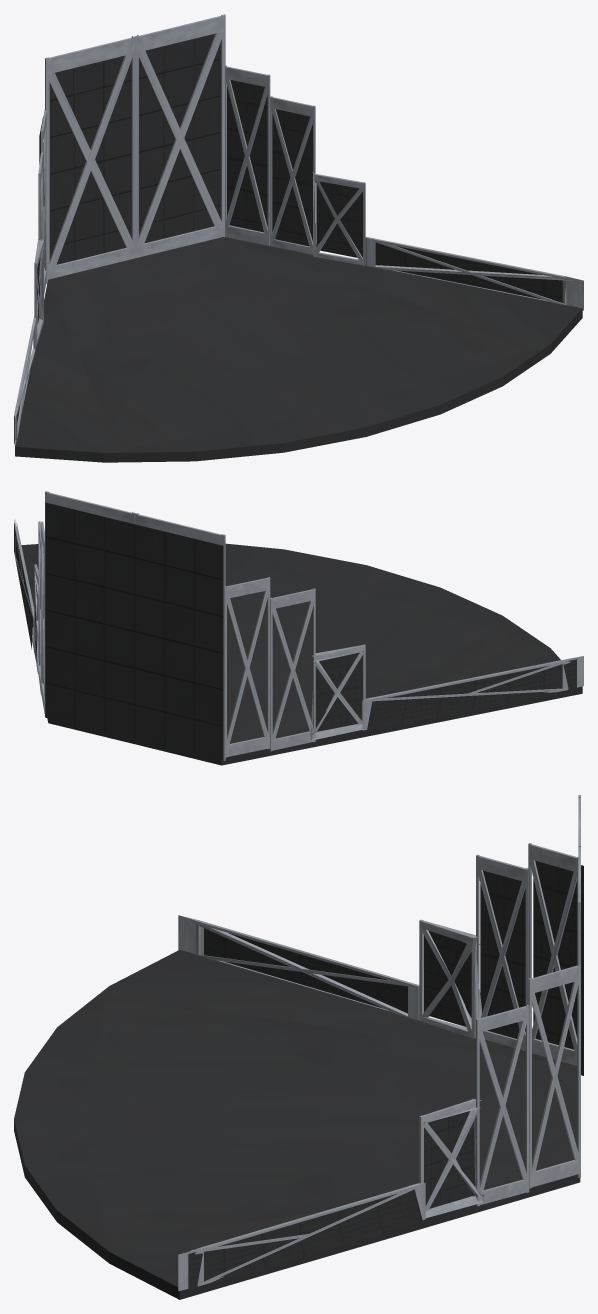
File: BossFloorStage.fbx
3 views of the same model, one above another, from view 1: azimuth 30°, elevation 25°; view 2: azimuth 150°, elevation 25°; view 3: azimuth 270°, elevation 25° (orthographic). The views are drawn at different scales.
Visible parts, largest first — view 1: 円柱, 平面, 立方体.004, 平面.001, 立方体.003, 立方体, 平面.003, 立方体.001, 平面.002, 立方体.002; view 2: 平面, 円柱, 平面.003, 立方体, 立方体.001, 平面.002, 立方体.003, 立方体.004, 立方体.002; view 3: 円柱, 平面.003, 立方体, 立方体.001, 立方体.003, 平面.002, 立方体.002, 平面, 平面.001.
Boxes of the visible parts, x1,y1,x2,y2 form: 円柱: [15, 237, 582, 462]; 平面: [39, 33, 267, 264]; 立方体.004: [45, 14, 225, 284]; 平面.001: [272, 109, 312, 246]; 立方体.003: [14, 236, 583, 446]; 立方体: [41, 65, 270, 295]; 平面.003: [14, 242, 562, 445]; 立方体.001: [38, 96, 315, 300]; 平面.002: [37, 181, 362, 323]; 立方体.002: [34, 172, 365, 345]; 平面: [45, 502, 223, 760]; 円柱: [21, 543, 582, 765]; 平面.003: [14, 523, 576, 731]; 立方体: [41, 521, 270, 757]; 立方体.001: [38, 521, 315, 751]; 平面.002: [34, 581, 363, 731]; 立方体.003: [14, 519, 583, 730]; 立方体.004: [45, 491, 225, 760]; 立方体.002: [34, 564, 365, 740]; 円柱: [14, 950, 580, 1299]; 平面.003: [188, 928, 422, 1289]; 立方体: [528, 843, 580, 1188]; 立方体.001: [476, 854, 529, 1206]; 立方体.003: [178, 915, 425, 1291]; 平面.002: [423, 930, 475, 1208]; 立方体.002: [419, 919, 484, 1218]; 平面: [533, 860, 583, 1075]; 平面.001: [480, 870, 525, 1038].
Bounding box in the file's own units: 4537 × 1765 × 3221.
